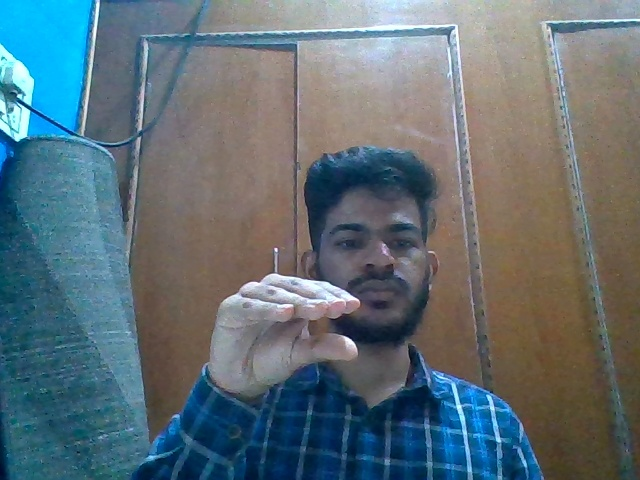no: (205, 271, 371, 398)
